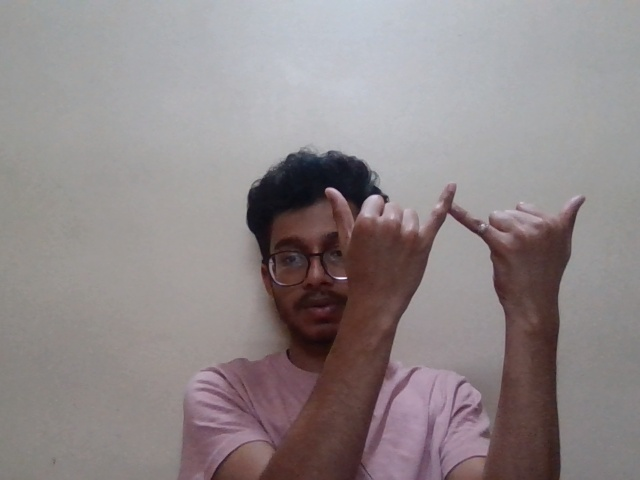today: (323, 179, 591, 313)
